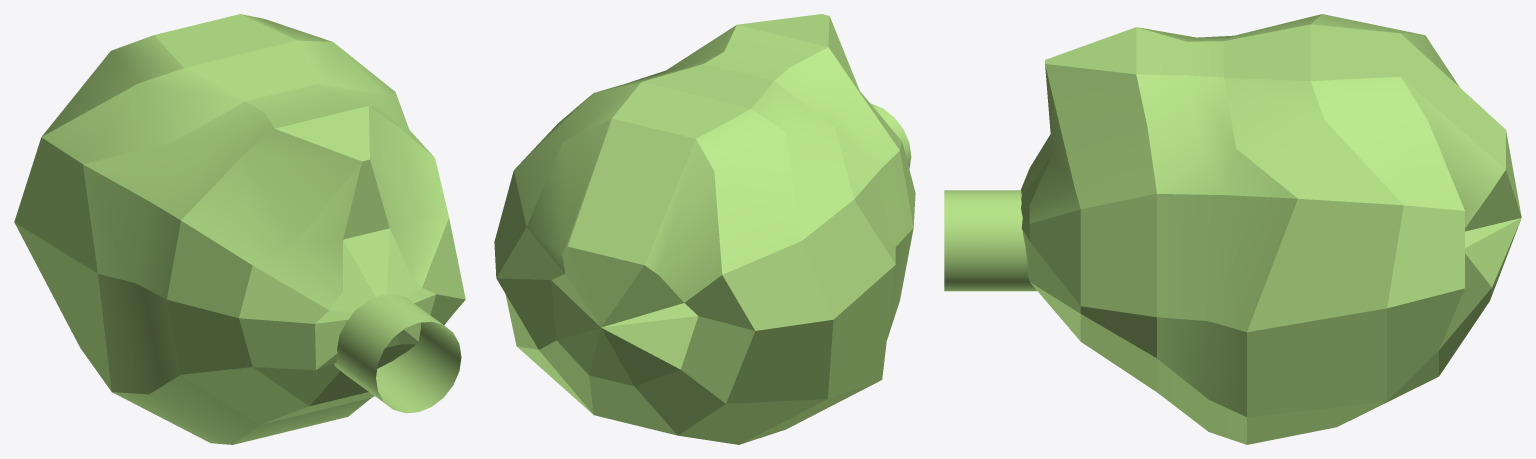
File: alien_head.fbx
The picture shows the model from 3 angles, left to right: view 1: azimuth 30°, elevation 25°; view 2: azimuth 150°, elevation 25°; view 3: azimuth 270°, elevation 25°; orthographic projection. The views are drawn at different scales.
Parts seen in each view (by area): view 1: polySurface2; view 2: polySurface2; view 3: polySurface2.
Boxes of the visible parts, left/top/right/bottom form: polySurface2: left=14, top=14, right=465, bottom=444; polySurface2: left=494, top=14, right=915, bottom=444; polySurface2: left=944, top=14, right=1521, bottom=444.
Bounding box in the file's own units: 2.49 × 2.36 × 3.41.
